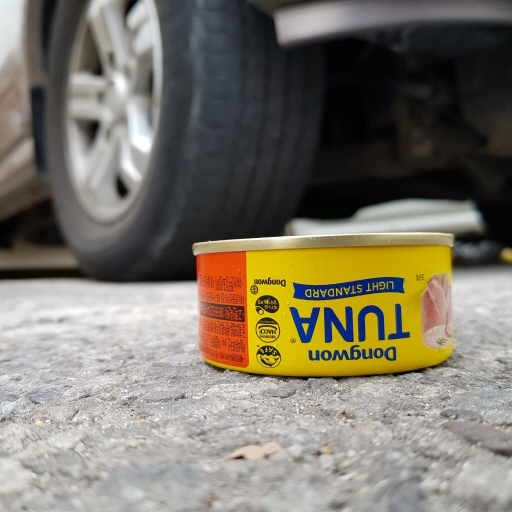Metal_1: (189, 232, 459, 372)
